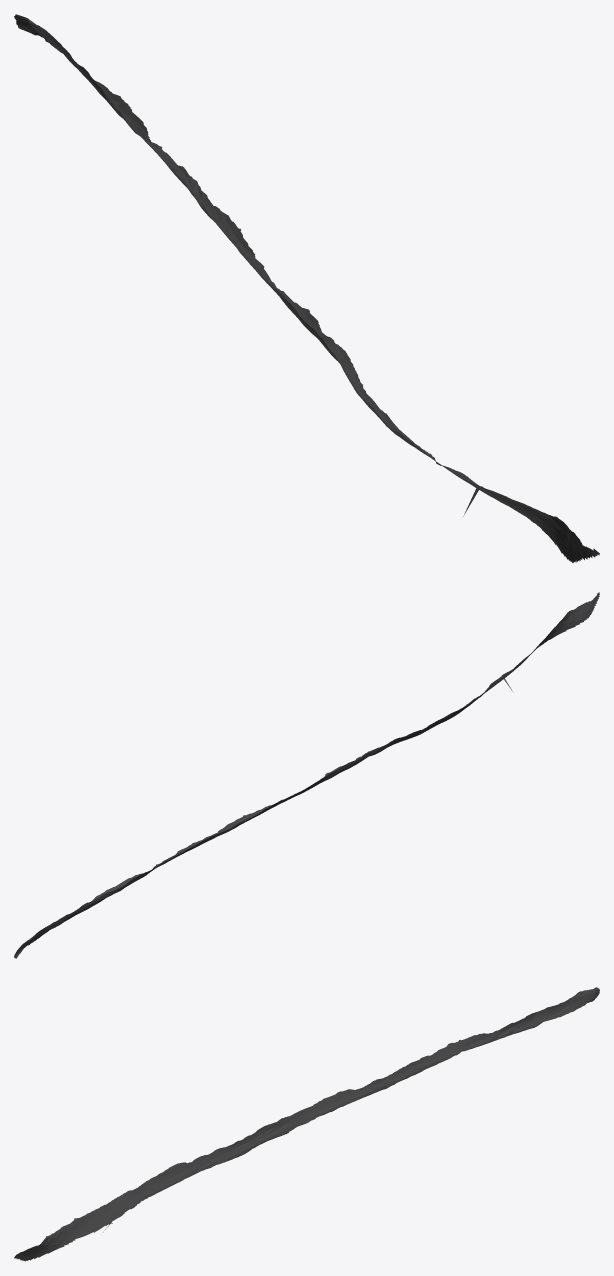
The model's file is a_medial_palmar.glb.
3 views of the same model, one above another, from view 1: azimuth 30°, elevation 25°; view 2: azimuth 150°, elevation 25°; view 3: azimuth 330°, elevation 25° (orthographic). The views are drawn at different scales.
Parts seen in each view (by area): view 1: a_medial_palmar; view 2: a_medial_palmar; view 3: a_medial_palmar.
Part boxes in pixels (<box>): a_medial_palmar: <box>14,14,599,562</box>; a_medial_palmar: <box>14,592,599,958</box>; a_medial_palmar: <box>14,987,599,1261</box>.
Bounding box in the file's own units: 0.0657 × 0.0277 × 0.4382.
Materials: 1 (1 with a texture image).
